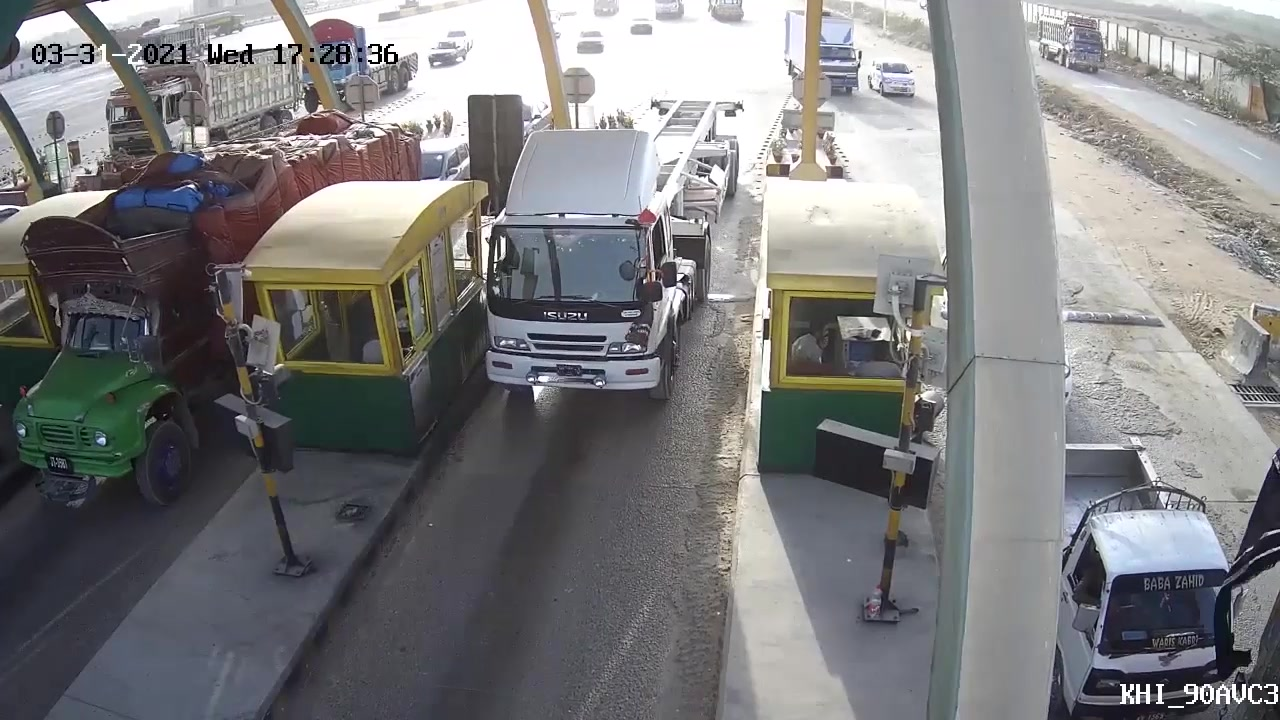F6: (456, 96, 749, 422)
